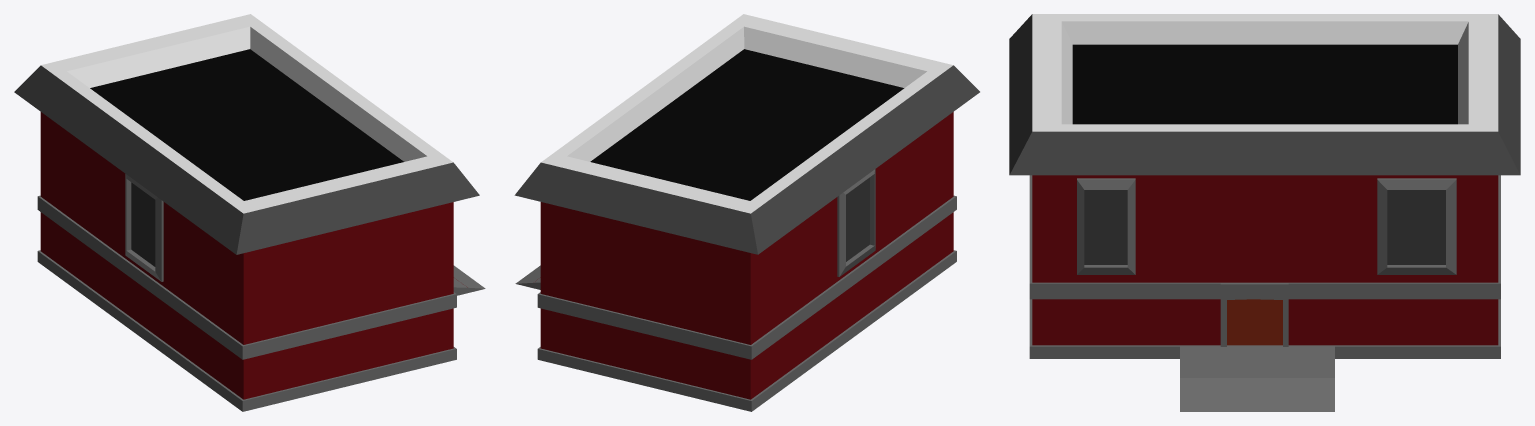
Rendered from Apartment.fbx.
3 views of the same model, side by side, from view 1: azimuth 30°, elevation 25°; view 2: azimuth 150°, elevation 25°; view 3: azimuth 270°, elevation 25° (orthographic). The views are drawn at different scales.
Visible parts, largest first — view 1: Cube; view 2: Cube; view 3: Cube.
Part boxes in pixels (x1,y1,x2,y2): Cube: [14, 14, 485, 411]; Cube: [514, 14, 979, 411]; Cube: [1009, 14, 1520, 411].
Bounding box in the file's own units: 3926 × 2284 × 4677.
